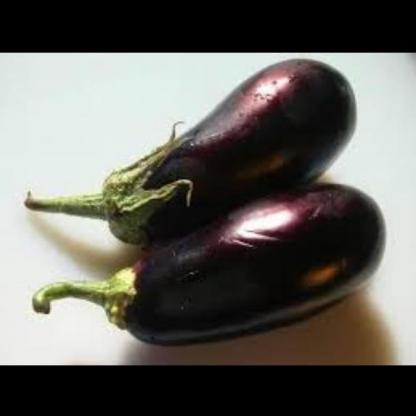eggplant: (61, 192, 408, 351), (50, 77, 370, 223)
